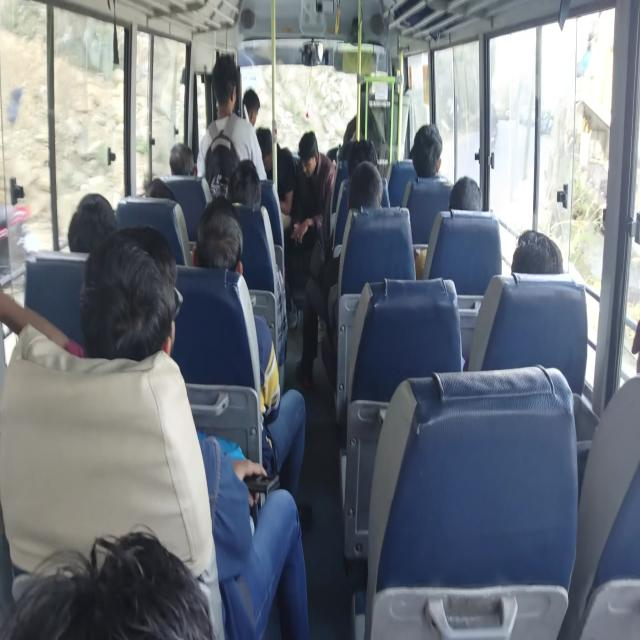person: (28, 504, 233, 640), (93, 245, 181, 349), (210, 182, 240, 300), (67, 193, 126, 252), (517, 230, 570, 292), (256, 139, 303, 205), (346, 160, 392, 216), (414, 123, 446, 184), (240, 174, 273, 219), (210, 51, 236, 108), (292, 138, 328, 170), (451, 180, 481, 218), (168, 143, 195, 177), (213, 141, 237, 179), (349, 146, 377, 178), (140, 176, 168, 206), (246, 83, 264, 118)
